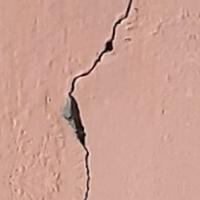crack: (52, 0, 140, 199)
